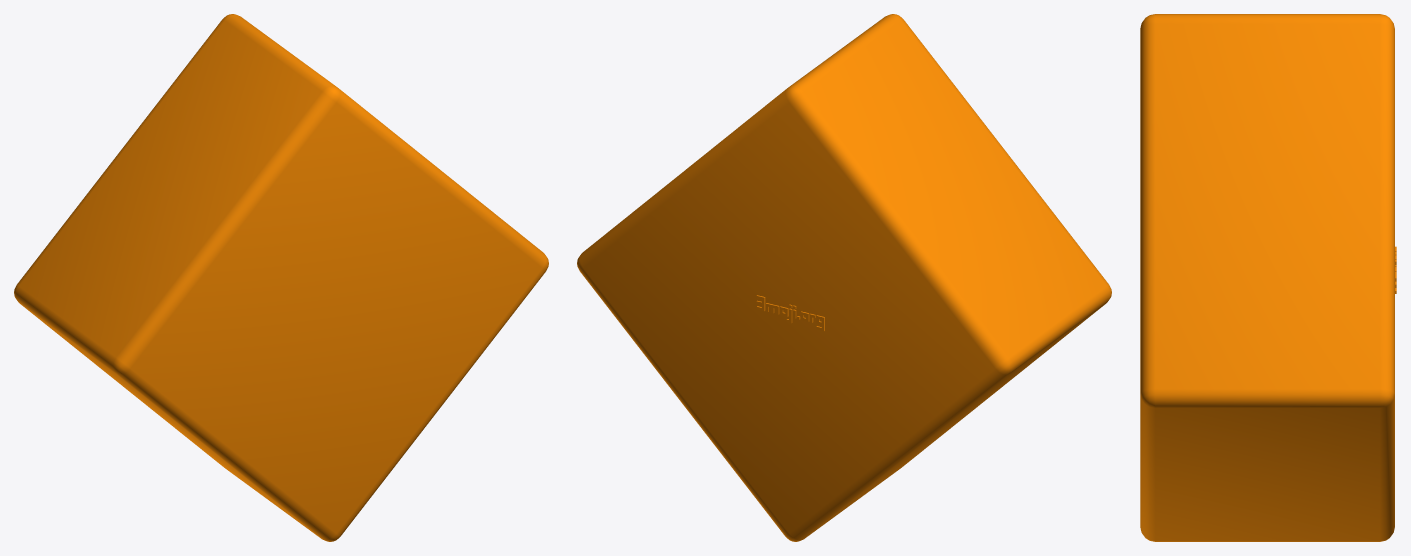
Rendered from small_orange_diamond.glb.
The picture shows the model from 3 angles, left to right: view 1: azimuth 30°, elevation 25°; view 2: azimuth 150°, elevation 25°; view 3: azimuth 270°, elevation 25°; orthographic projection. The views are drawn at different scales.
Parts seen in each view (by area): view 1: small_orange_diamond; view 2: small_orange_diamond; view 3: small_orange_diamond.
Boxes of the visible parts, box(x1,y1,x2,y2) form: small_orange_diamond: box(14, 14, 548, 541); small_orange_diamond: box(577, 14, 1111, 541); small_orange_diamond: box(1140, 14, 1396, 541).
Size of the model in its own units: 1.7 by 1.7 by 0.7511.
Materials: 1 (1 with a texture image).
